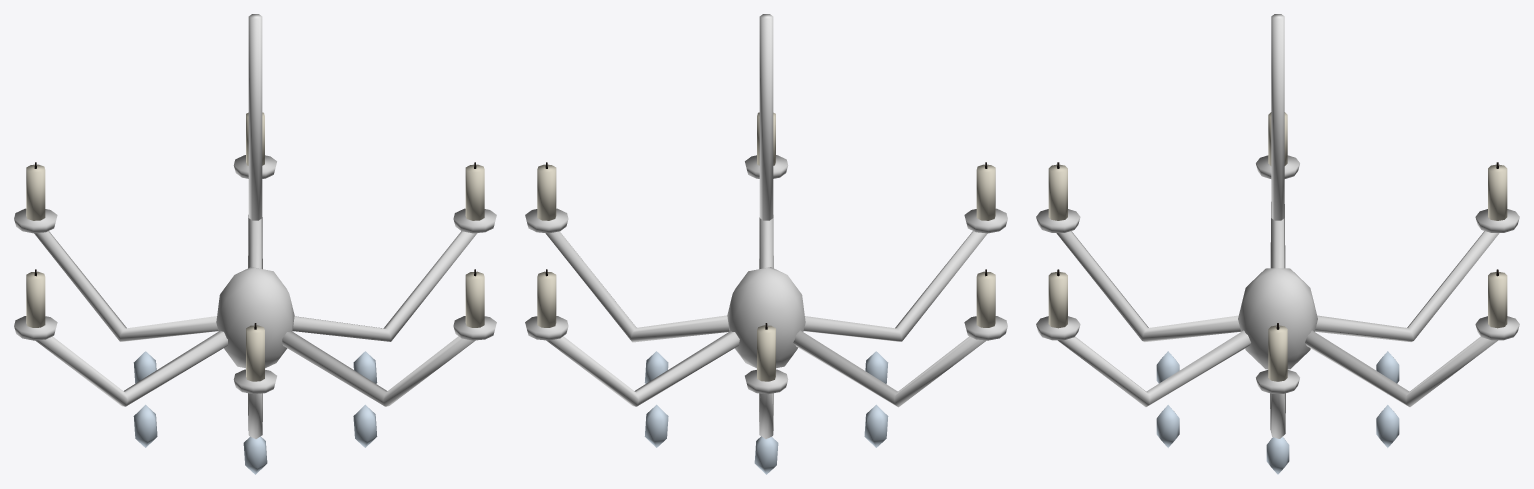
Rendered from wooden_chandelier_v0.glb.
3 renders of one model, left to right at view 1: azimuth 30°, elevation 25°; view 2: azimuth 150°, elevation 25°; view 3: azimuth 270°, elevation 25°, orthographic.
Parts seen in each view (by area): view 1: wooden_chandelier_v0; view 2: wooden_chandelier_v0; view 3: wooden_chandelier_v0.
Boxes of the visible parts, box(x1,y1,x2,y2) form: wooden_chandelier_v0: box(14, 14, 496, 474); wooden_chandelier_v0: box(525, 14, 1007, 474); wooden_chandelier_v0: box(1036, 14, 1519, 474).
Size of the model in its own units: 1.24 by 1 by 1.09.
